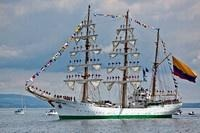fanchuan: (24, 11, 187, 118)
